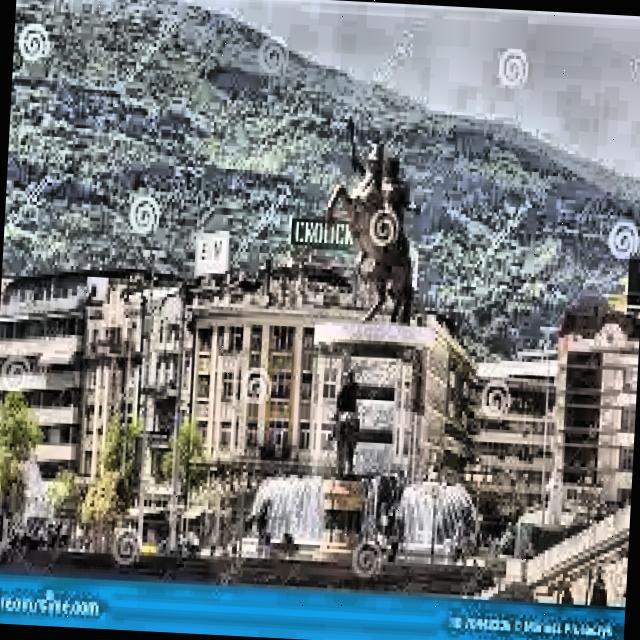alexander the great monument: (289, 114, 446, 566)
